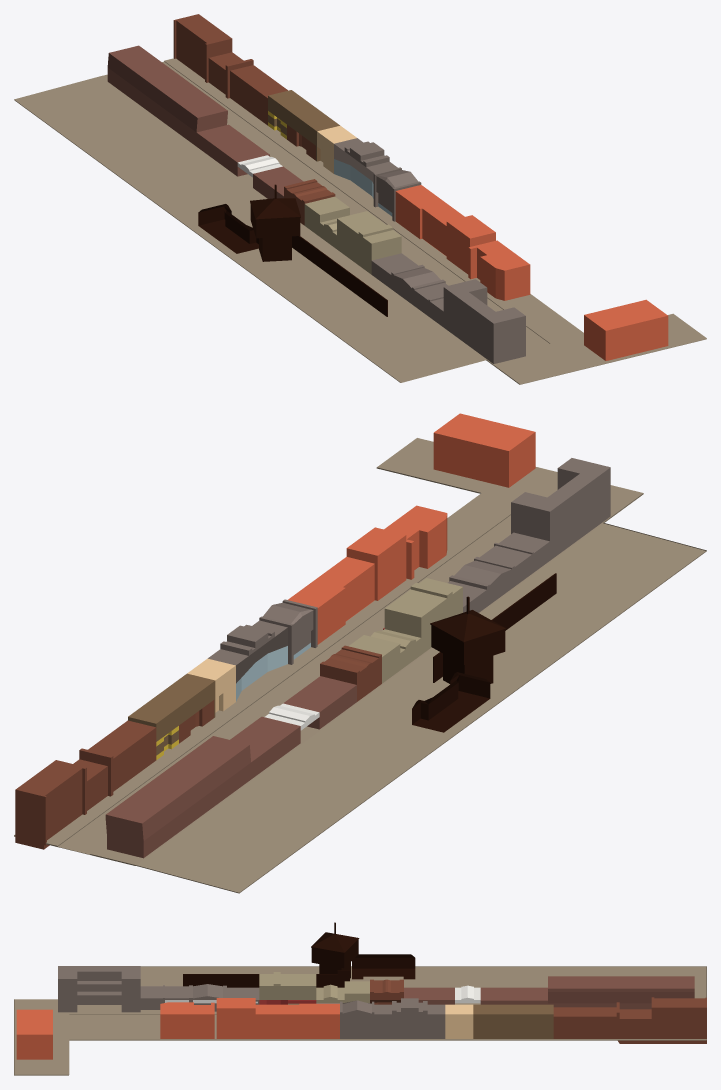
File: Main Street.fbx
3 views of the same model, one above another, from view 1: azimuth 30°, elevation 25°; view 2: azimuth 150°, elevation 25°; view 3: azimuth 270°, elevation 25° (orthographic). The views are drawn at different scales.
Visible parts, largest first — view 1: Street, Cube.011, Queens, Building.009, Building, Cube.005, American Hotel, Cube.002, Building.001, Cube.003, Building.003, Building.006 (+4 smaller); view 2: Street, Cube.011, Queens, Building.009, Building, American Hotel, Cube.005, Cube.002, Cube.003, Building.003, Building.006, Building.001 (+6 smaller); view 3: Street, Building.009, Cube.011, Queens, Building, Building.003, Cube.002, Building.006, Cube.005, Building.001, American Hotel, Cube.003 (+4 smaller).
Boxes of the visible parts, x1=… form: Street: x1=14, y1=58, x2=706, y2=384; Cube.011: x1=107, y1=45, x2=269, y2=176; Queens: x1=371, y1=253, x2=525, y2=363; Building.009: x1=173, y1=14, x2=287, y2=125; Building: x1=395, y1=185, x2=495, y2=274; Cube.005: x1=304, y1=196, x2=401, y2=274; American Hotel: x1=584, y1=299, x2=668, y2=360; Cube.002: x1=198, y1=204, x2=387, y2=316; Building.001: x1=468, y1=240, x2=530, y2=300; Cube.003: x1=250, y1=184, x2=300, y2=261; Building.003: x1=334, y1=138, x2=418, y2=212; Building.006: x1=268, y1=90, x2=339, y2=161; Street: x1=14, y1=438, x2=706, y2=893; Cube.011: x1=105, y1=716, x2=300, y2=858; Queens: x1=448, y1=458, x2=610, y2=612; Building.009: x1=15, y1=720, x2=156, y2=849; Building: x1=288, y1=527, x2=406, y2=644; American Hotel: x1=433, y1=413, x2=535, y2=487; Cube.005: x1=349, y1=578, x2=462, y2=683; Cube.002: x1=412, y1=573, x2=556, y2=732; Cube.003: x1=430, y1=596, x2=506, y2=683; Building.003: x1=208, y1=602, x2=313, y2=683; Building.006: x1=128, y1=673, x2=215, y2=755; Building.001: x1=384, y1=505, x2=447, y2=579; Street: x1=14, y1=966, x2=706, y2=1075; Building.009: x1=553, y1=997, x2=706, y2=1043; Cube.011: x1=480, y1=976, x2=694, y2=1009; Queens: x1=58, y1=966, x2=259, y2=1012; Building: x1=216, y1=998, x2=339, y2=1038; Building.003: x1=342, y1=998, x2=445, y2=1038; Cube.002: x1=183, y1=954, x2=415, y2=987; Building.006: x1=473, y1=1004, x2=553, y2=1038; Cube.005: x1=259, y1=972, x2=369, y2=1004; Building.001: x1=160, y1=1002, x2=214, y2=1038; American Hotel: x1=16, y1=1009, x2=52, y2=1059; Cube.003: x1=311, y1=922, x2=359, y2=978.
Size of the model in its own units: 13675 by 3553 by 36456.
